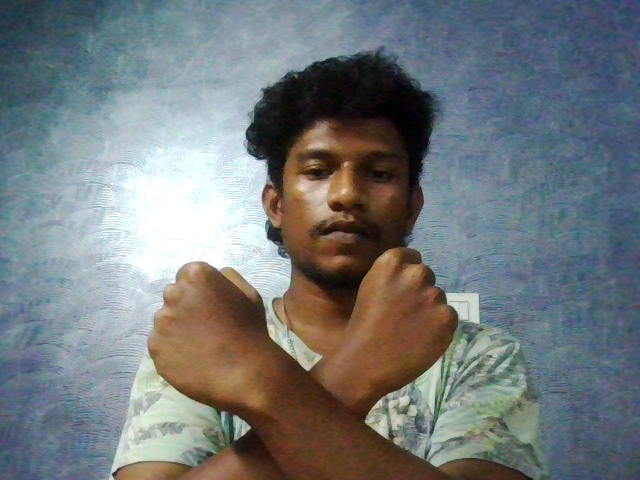danger: (117, 233, 520, 428)
